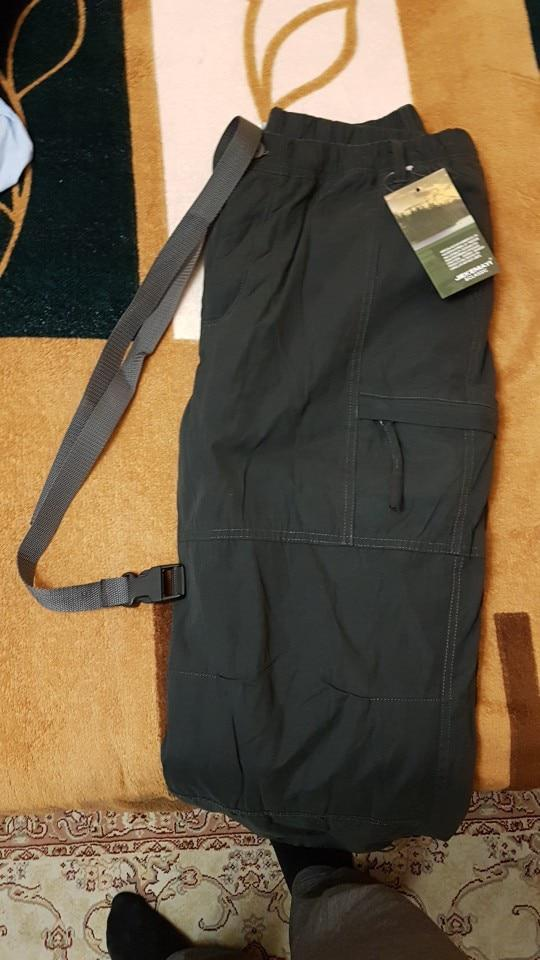pants: (170, 106, 491, 834)
